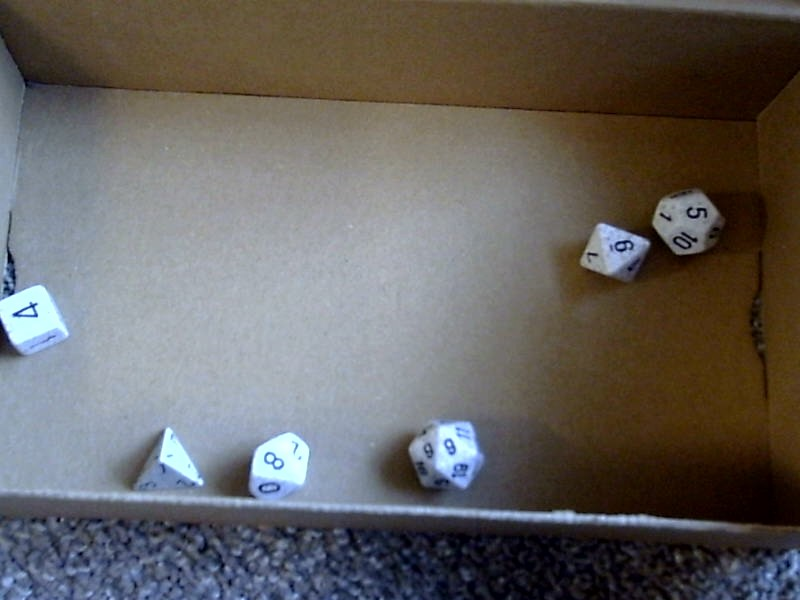d10 8: (240, 418, 315, 502)
d12 5: (650, 174, 731, 260)
d20 9: (398, 410, 490, 501)
d4 1: (129, 421, 205, 499)
d6 4: (0, 274, 74, 364)
d8 6: (569, 218, 651, 288)
